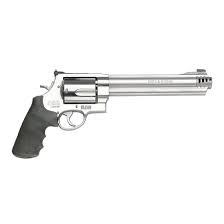gun: (12, 68, 212, 159)
